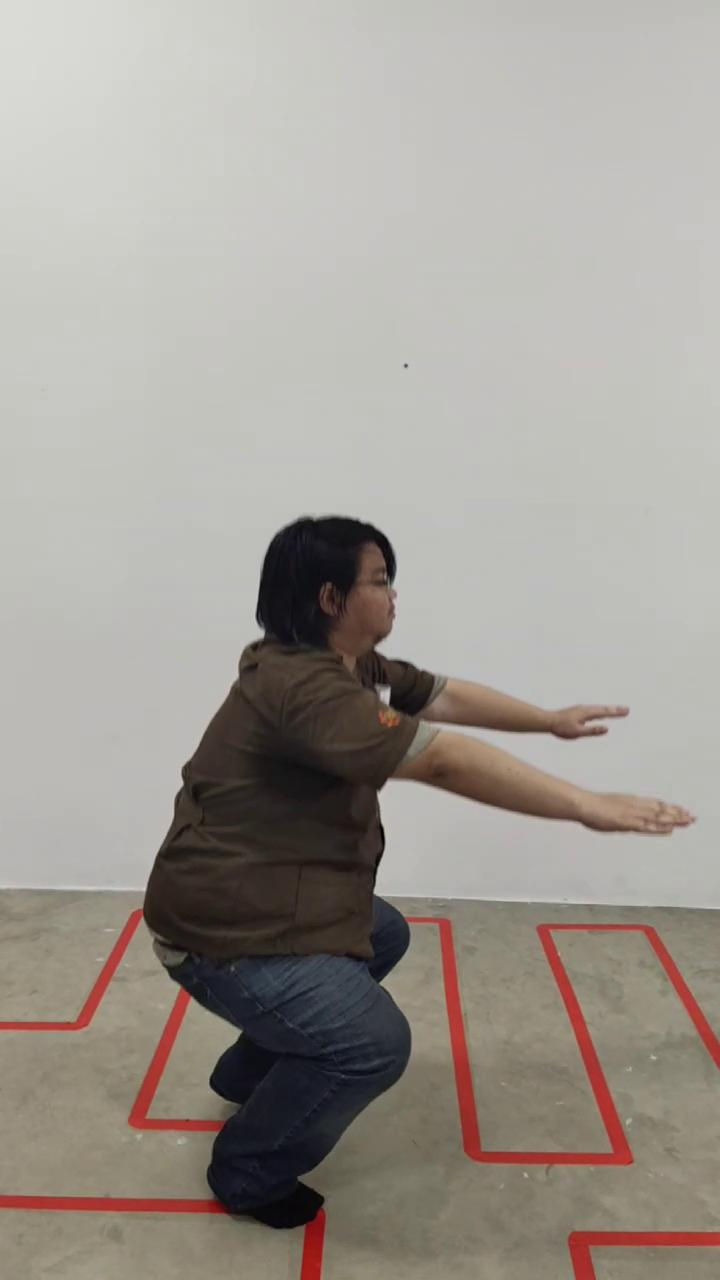squat down: (143, 516, 683, 1235)
